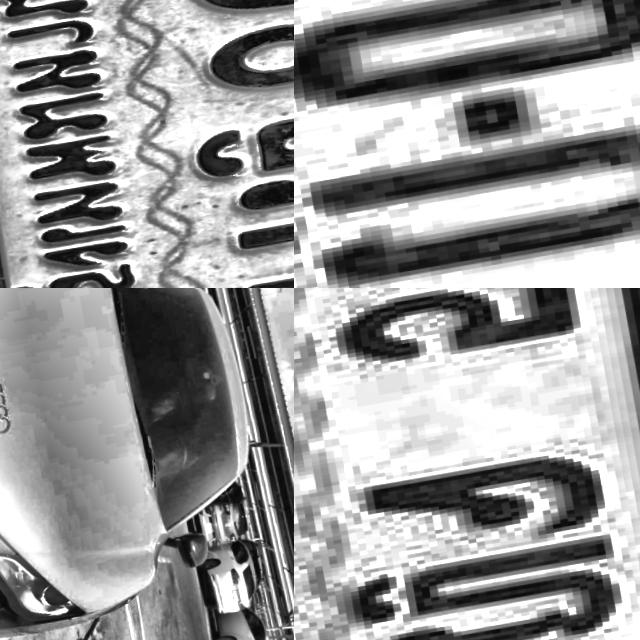license-plate: (294, 288, 640, 640), (294, 0, 640, 288), (0, 0, 294, 288), (198, 525, 214, 539), (225, 593, 237, 605)
